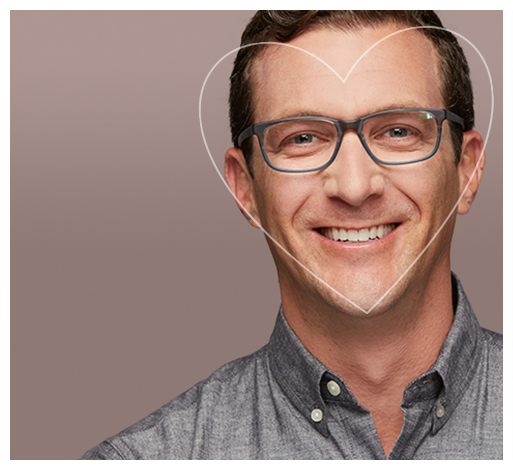sunglasses: (220, 108, 500, 166)
